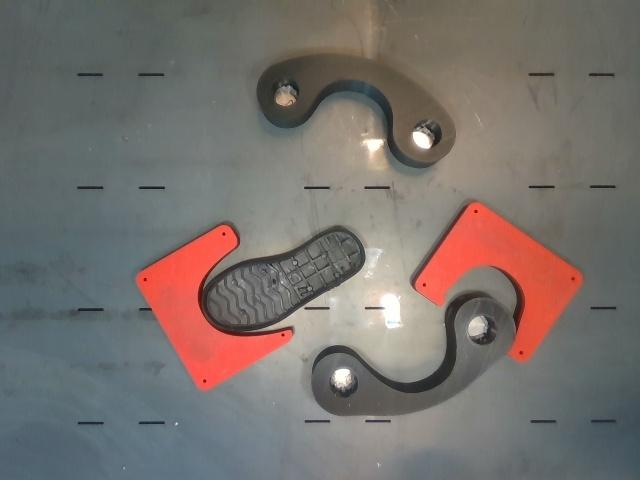shoes: (203, 230, 365, 331)
